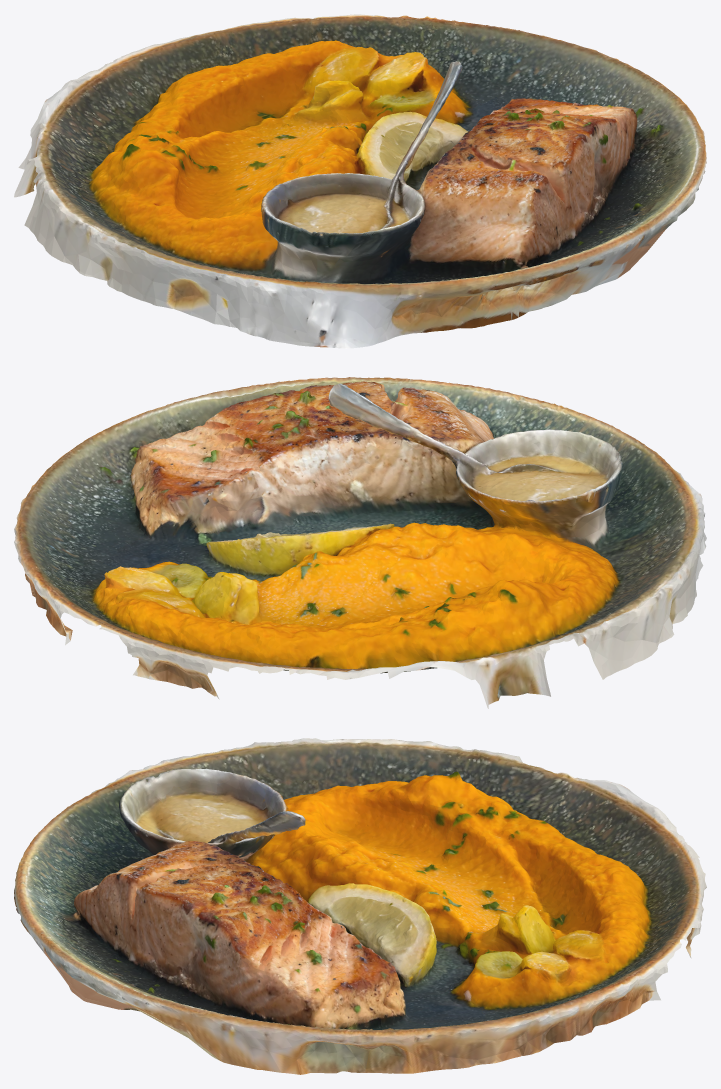
The model's file is salmon.glb.
The picture shows the model from 3 angles, top to bottom: view 1: azimuth 30°, elevation 25°; view 2: azimuth 150°, elevation 25°; view 3: azimuth 270°, elevation 25°; orthographic projection. The views are drawn at different scales.
Visible parts, largest first — view 1: Object_2; view 2: Object_2; view 3: Object_2.
Part boxes in pixels (bbox=[...]): Object_2: bbox=[14, 14, 706, 348]; Object_2: bbox=[14, 377, 706, 708]; Object_2: bbox=[14, 738, 706, 1074].
Bounding box in the file's own units: 0.28 × 0.0682 × 0.2764.
1 material, 1 textured.
